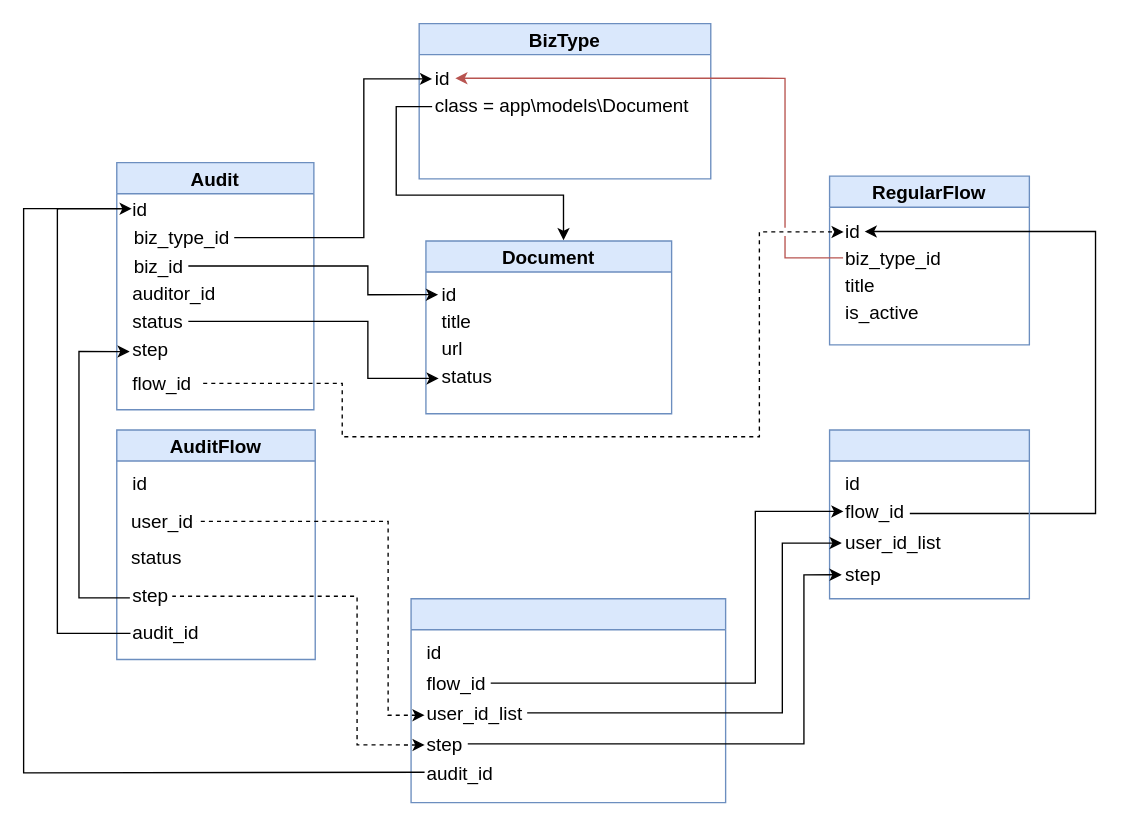
Some shapes in this 1130 by 826 pixel diagram are drawn without their labels. The box of each missing label's shape, as (x1, y1, x2, y2) in pixels:
AuditRegularFlowStep: (410, 597, 726, 803)
RegularFlowStep: (828, 429, 1029, 599)
